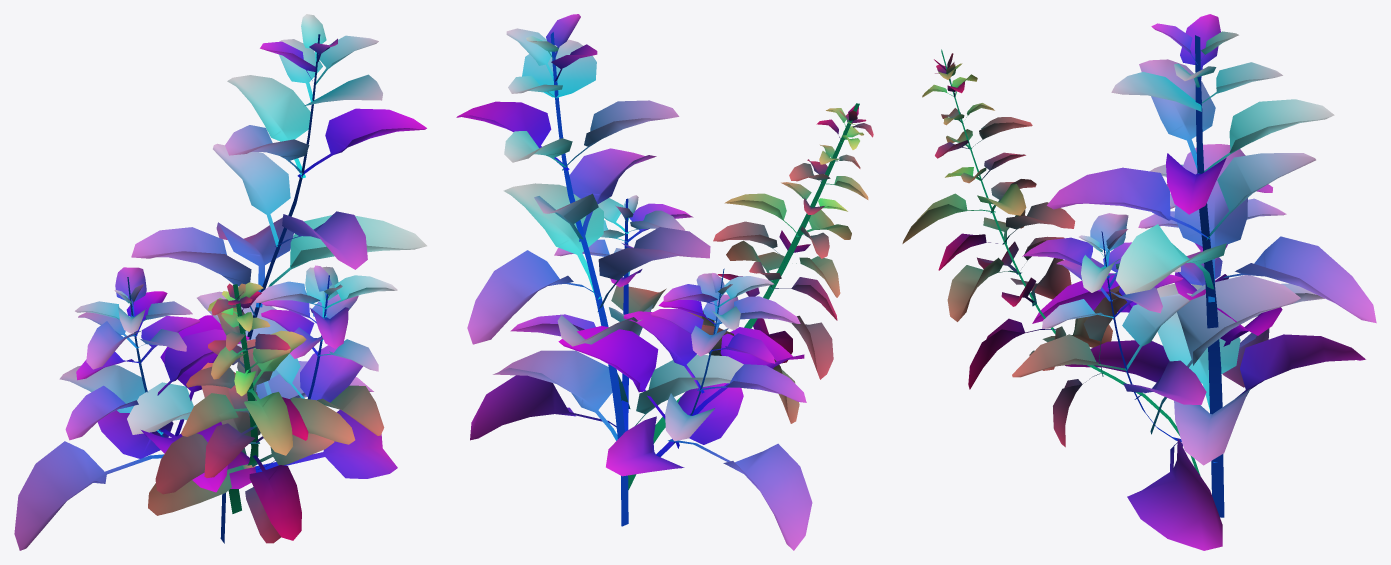
The model's file is Lemon_Balm_umslacdia_Mid_umslacdia_VarE_LOD2.fbx.
3 renders of one model, left to right at view 1: azimuth 30°, elevation 25°; view 2: azimuth 150°, elevation 25°; view 3: azimuth 270°, elevation 25°, orthographic. The views are drawn at different scales.
Parts seen in each view (by area): view 1: _u70g_VarE_LOD4; view 2: _u70g_VarE_LOD4; view 3: _u70g_VarE_LOD4.
Part boxes in pixels (x1,y1,x2,y2): _u70g_VarE_LOD4: (14,14,426,550); _u70g_VarE_LOD4: (456,14,873,550); _u70g_VarE_LOD4: (902,14,1376,550).
Bounding box in the file's own units: 55.35 × 68.65 × 55.33.
